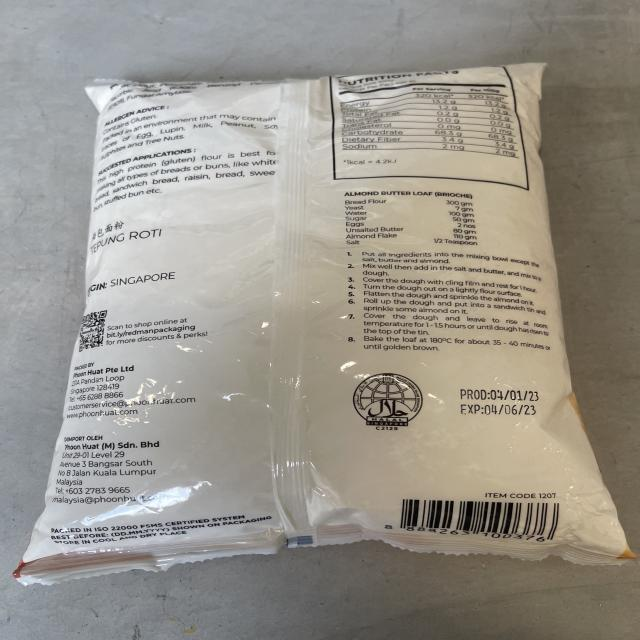object_name: (94, 82, 565, 549)
